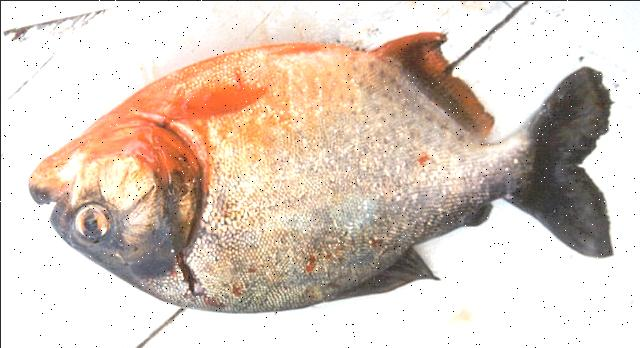Mulut: (1, 139, 113, 259)
Sirip Anal: (498, 63, 622, 267), (359, 19, 498, 146)
Sirip Dada: (154, 64, 276, 134)
Sirip Punggung: (320, 189, 502, 317)
